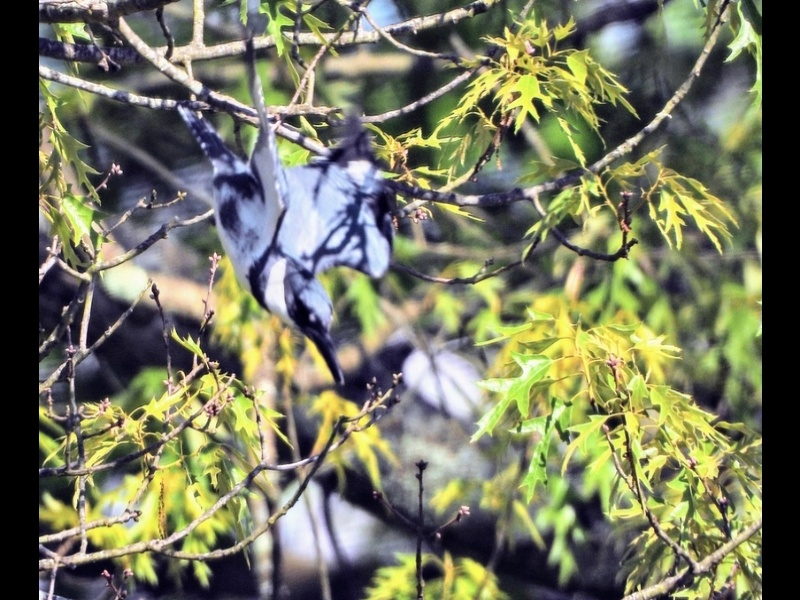kingfisher: (166, 96, 409, 391)
